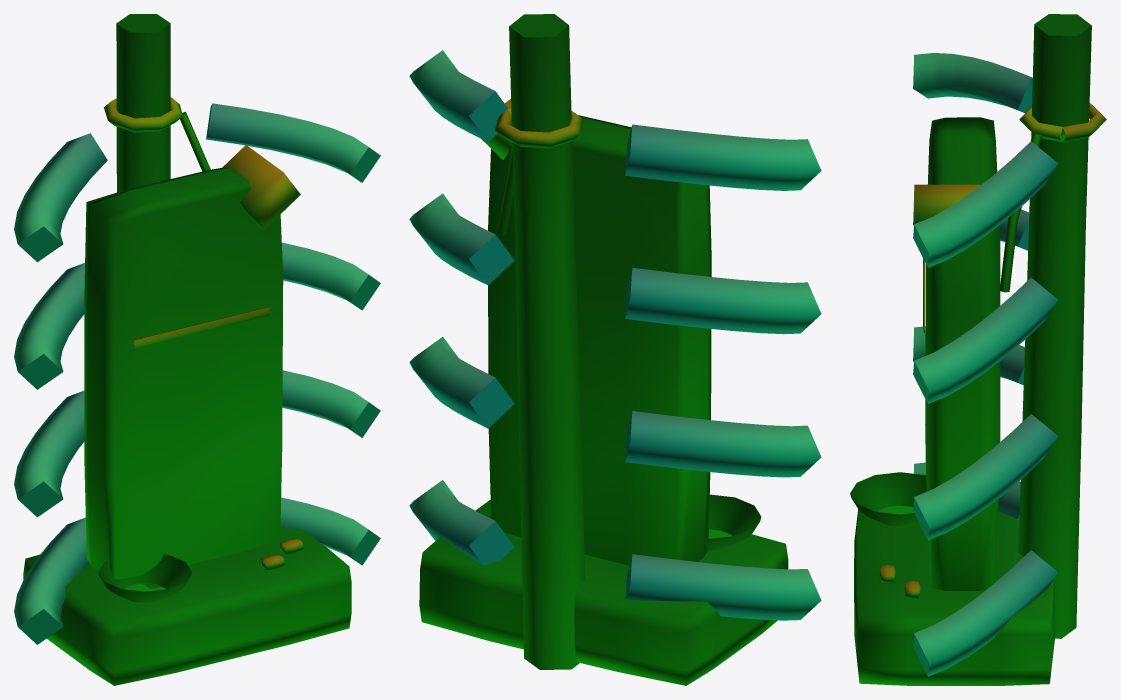
Rendered from level_stone_shrine.glb.
3 views of the same model, side by side, from view 1: azimuth 30°, elevation 25°; view 2: azimuth 150°, elevation 25°; view 3: azimuth 270°, elevation 25° (orthographic). The views are drawn at different scales.
Parts seen in each view (by area): view 1: level_stone_shrine; view 2: level_stone_shrine; view 3: level_stone_shrine.
Part boxes in pixels (x1,y1,x2,y2): level_stone_shrine: [14, 14, 380, 685]; level_stone_shrine: [409, 14, 821, 685]; level_stone_shrine: [850, 14, 1106, 685].
Size of what is drawn, in the model's own units: 1.07 by 1.6 by 0.615.
